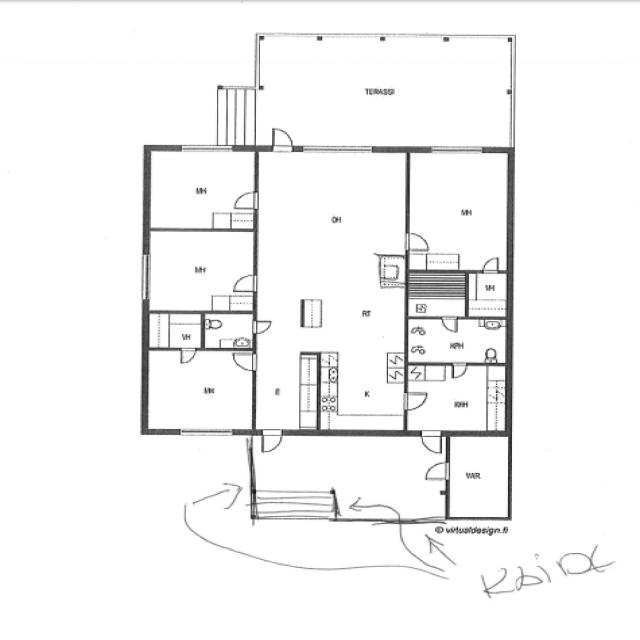door: (266, 124, 296, 153), (419, 459, 451, 486), (399, 388, 431, 414), (418, 425, 444, 456), (229, 188, 261, 213), (228, 349, 258, 374), (258, 428, 284, 455), (401, 230, 431, 253), (229, 272, 260, 294), (250, 317, 274, 337), (438, 315, 461, 335), (447, 361, 468, 382), (178, 347, 198, 368), (481, 256, 501, 274)
window: (252, 497, 341, 522), (297, 142, 380, 158), (136, 249, 154, 306), (424, 142, 487, 157), (176, 142, 241, 156), (172, 426, 239, 438), (406, 514, 448, 526)
zone: (253, 288, 407, 432), (255, 147, 408, 287), (407, 146, 511, 274), (144, 348, 254, 432), (144, 230, 255, 313), (146, 147, 256, 230), (404, 362, 510, 434), (447, 433, 511, 519), (405, 318, 509, 365), (405, 270, 468, 318), (146, 310, 203, 350), (200, 312, 255, 350), (466, 271, 509, 319), (376, 254, 406, 286)
